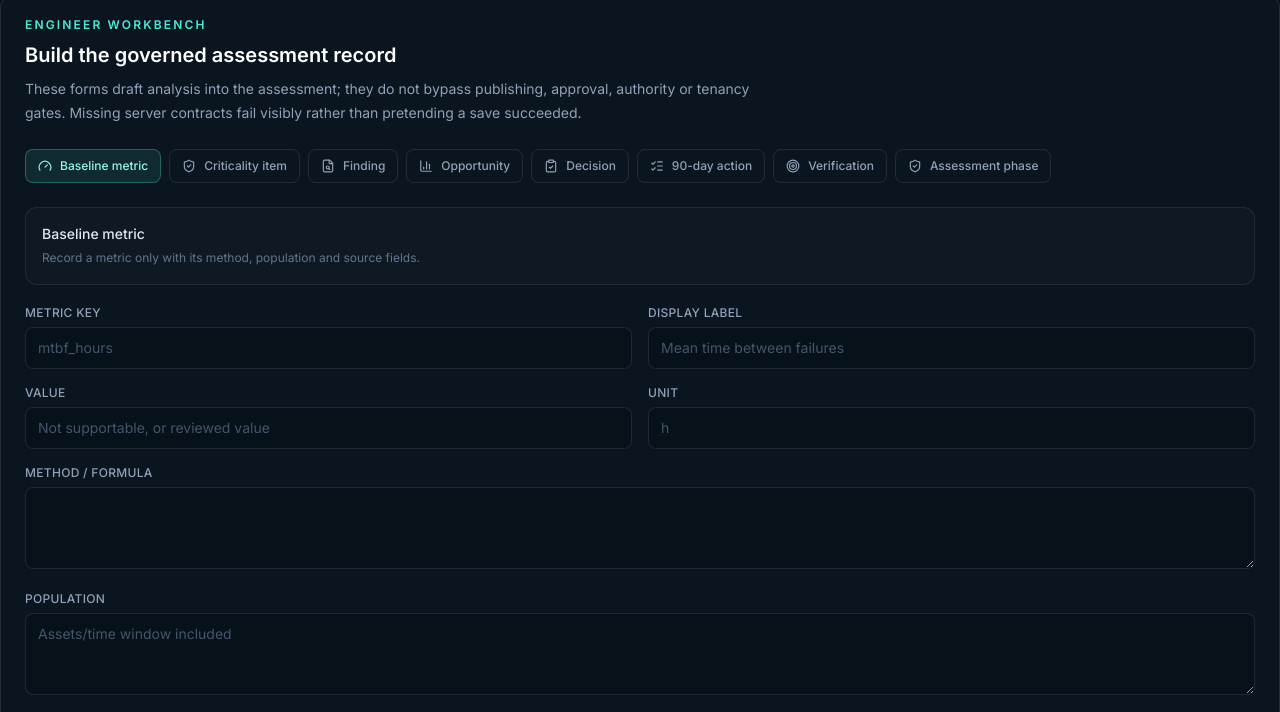
it: RiaAnalysisWorkbench › surfaces an undeployed invariant contract rather than showing success
Type "pm_compliance" into the field labelled "Metric key". click: coordinates (328, 348)
box: x1=25 y1=327 x2=632 y2=369
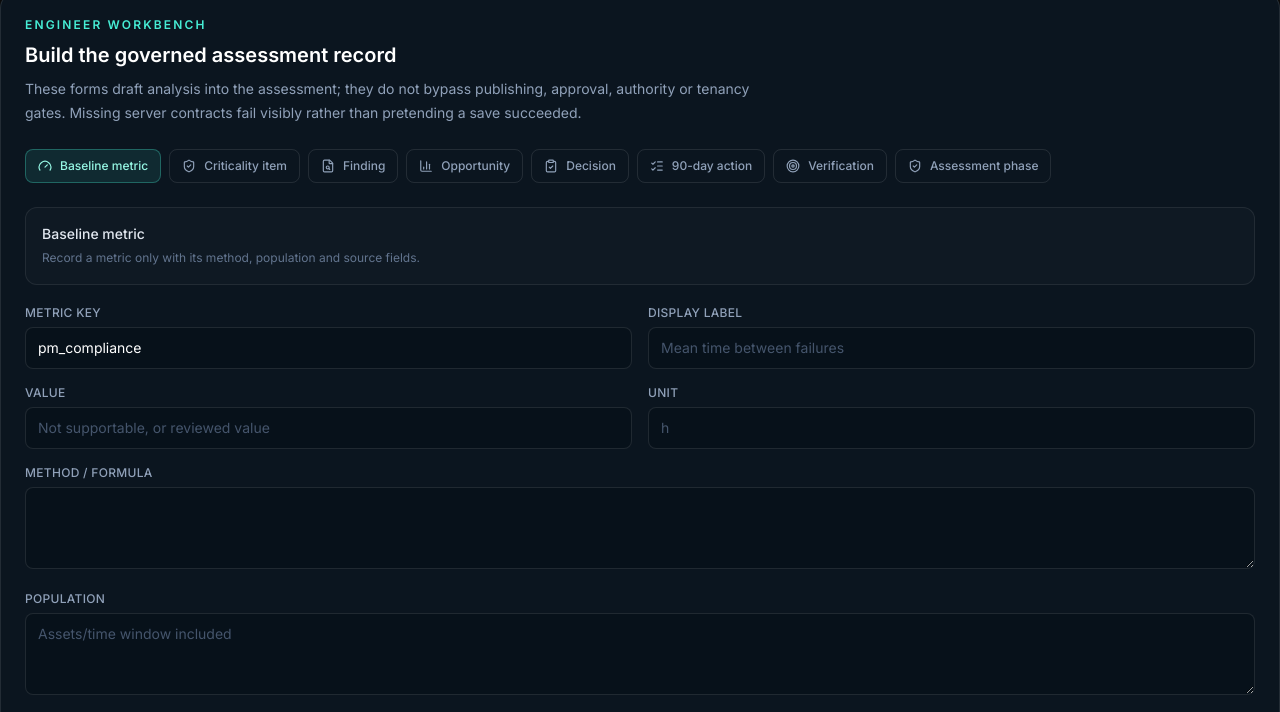
Type "PM compliance" into the field labelled "Display label". click: coordinates (952, 348)
box: x1=648 y1=327 x2=1255 y2=369
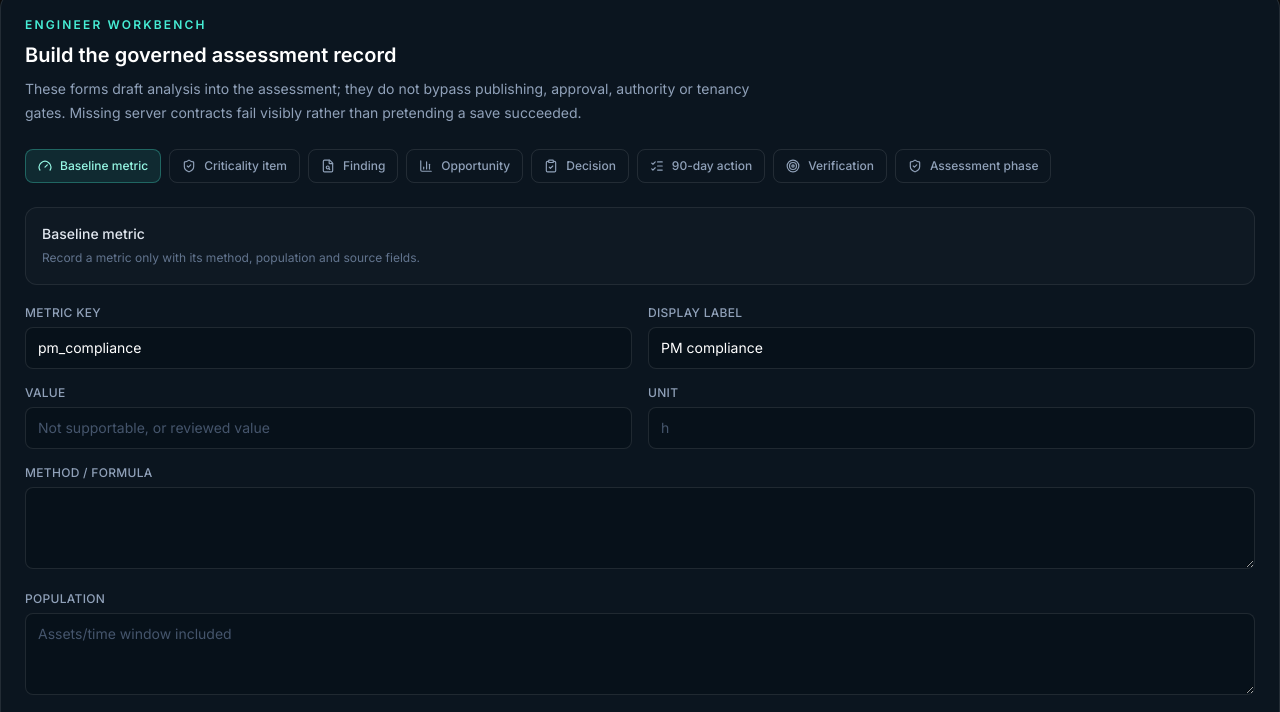
Type "completed PMs / due PMs" into the text box labelled "Method / formula". click: coordinates (640, 528)
box: x1=25 y1=487 x2=1255 y2=569
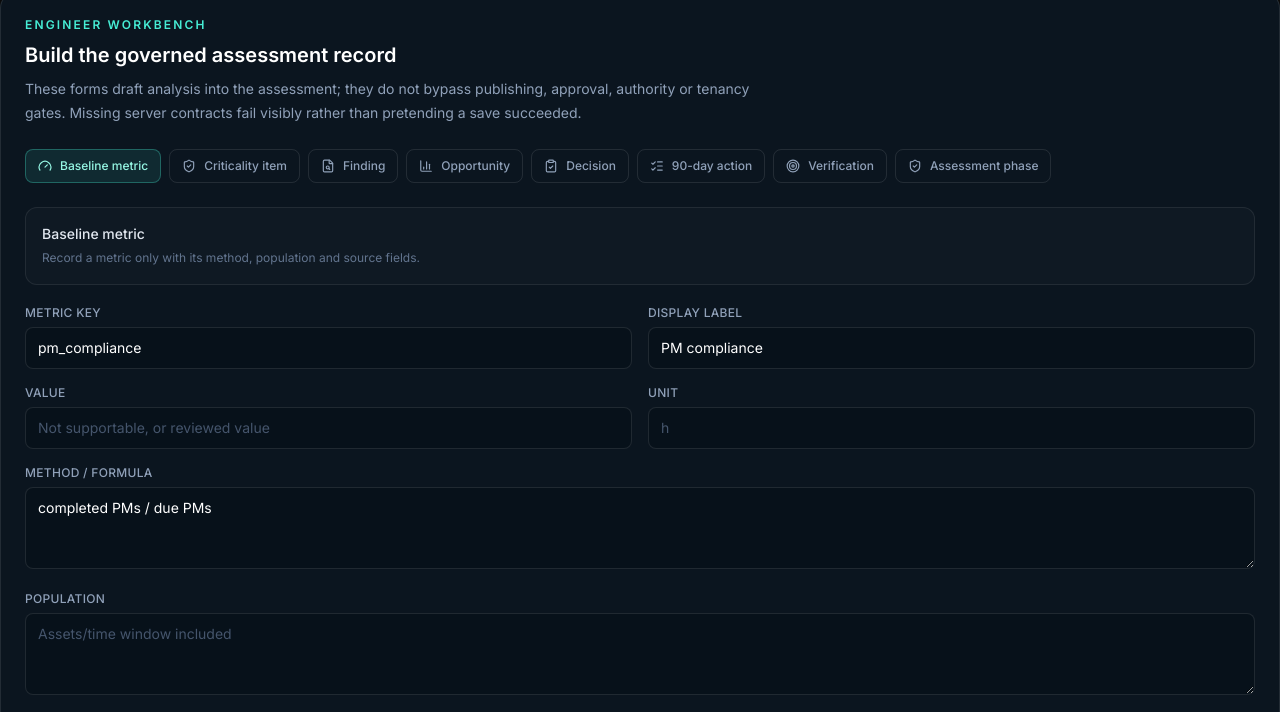
Type "all scheduled PMs" into the text box labelled "Population". click: coordinates (640, 654)
box: x1=25 y1=613 x2=1255 y2=695
(page scrolled)
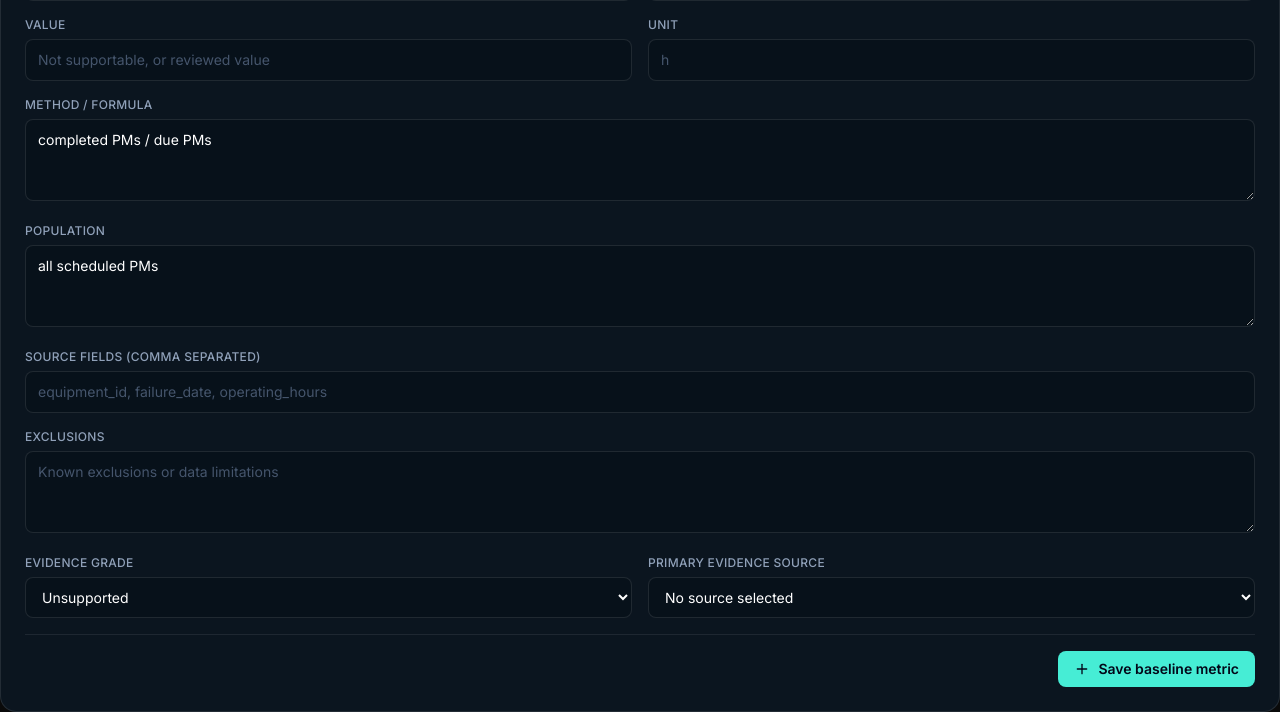
Type "due_date, completion_date" into the field labelled "Source fields (comma separated)". click: coordinates (640, 392)
box: x1=25 y1=371 x2=1255 y2=413
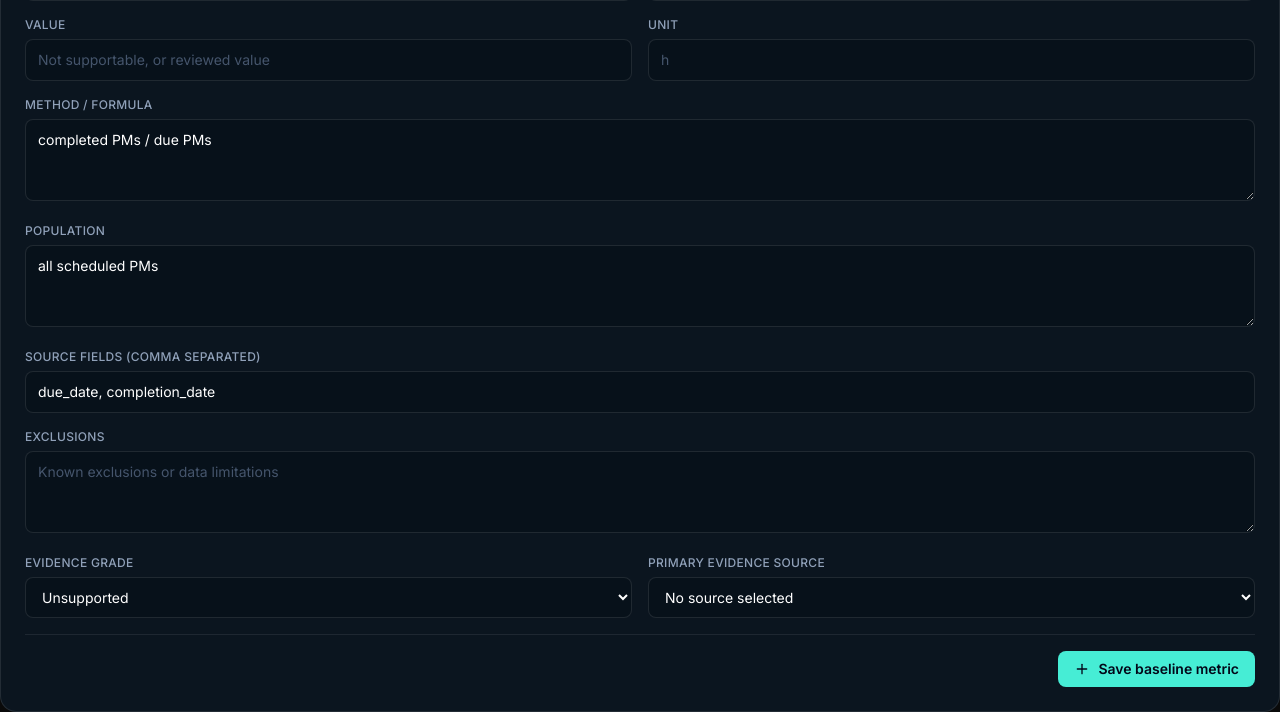
Click the button "Save baseline metric". click: coordinates (1157, 669)
box: x1=1058 y1=651 x2=1255 y2=687
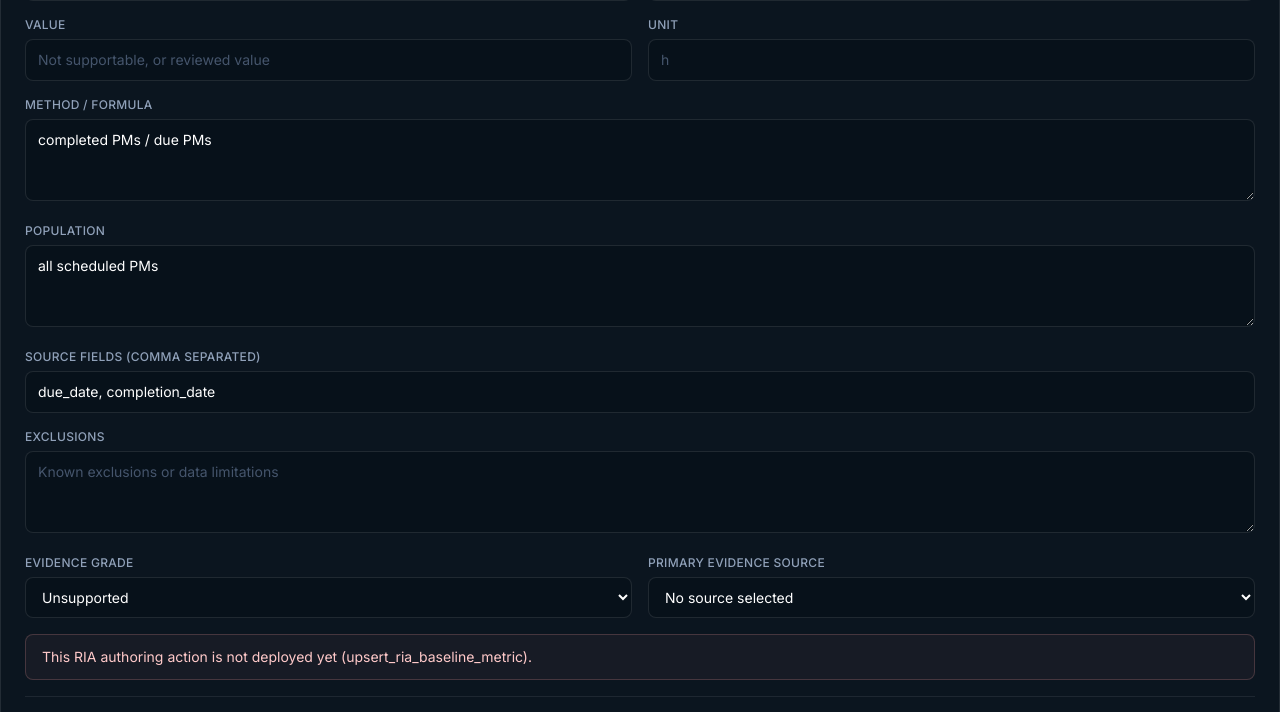
Now the text "This RIA authoring action is not deployed yet (upsert_ria_baseline_metric)." is shown, box x1=25 y1=634 x2=1255 y2=680
